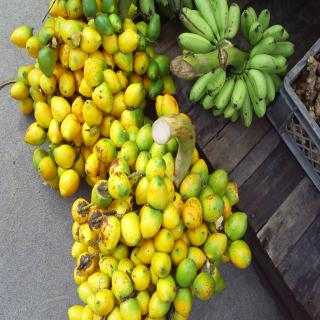Banana: (178, 0, 296, 128), (230, 75, 246, 109)
